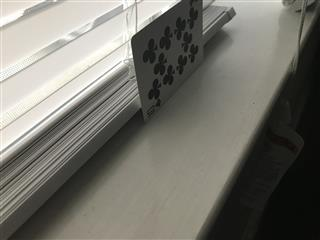TenOfClubs: (130, 1, 203, 123)
